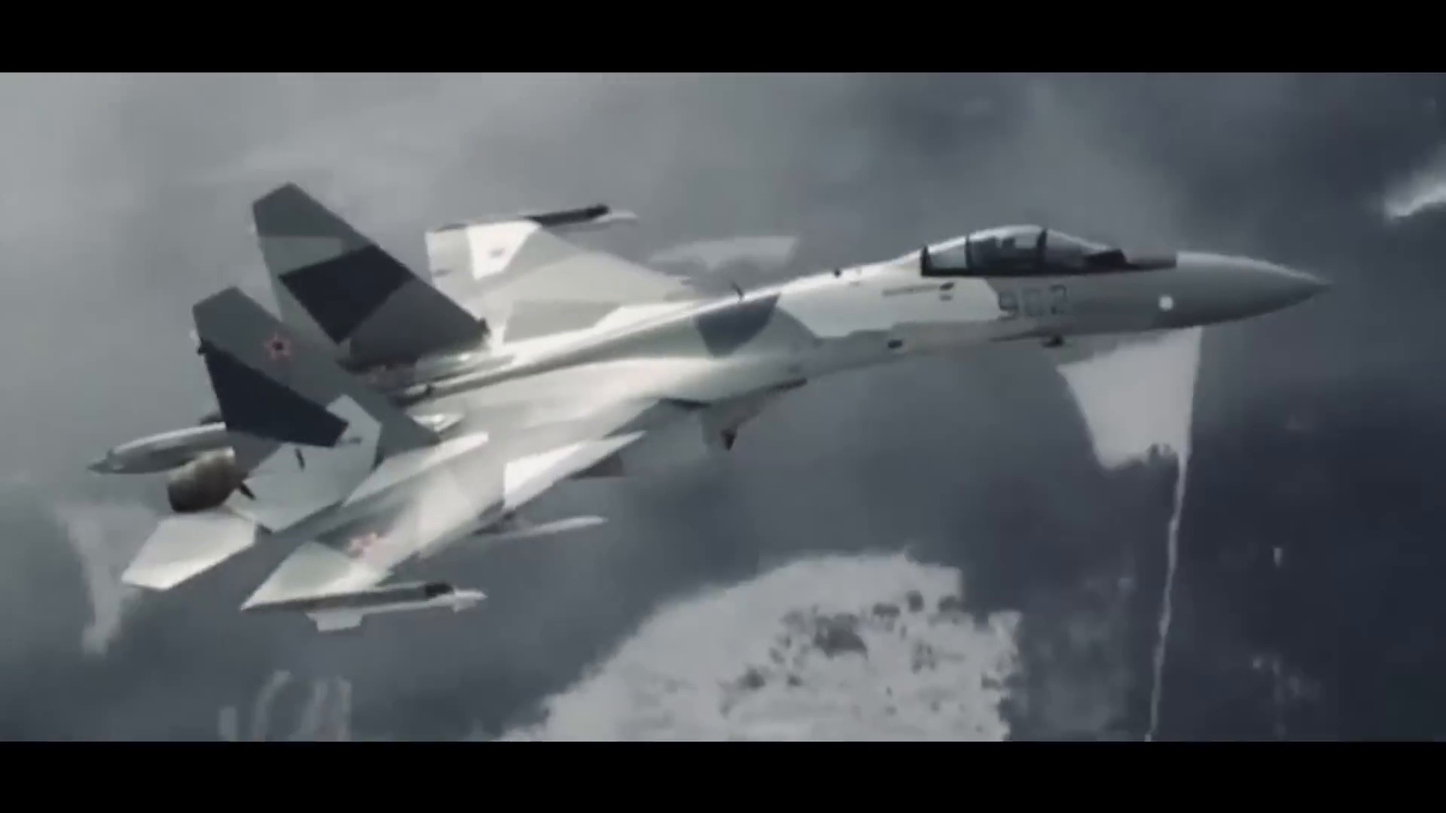Su35: (86, 178, 1332, 632)
